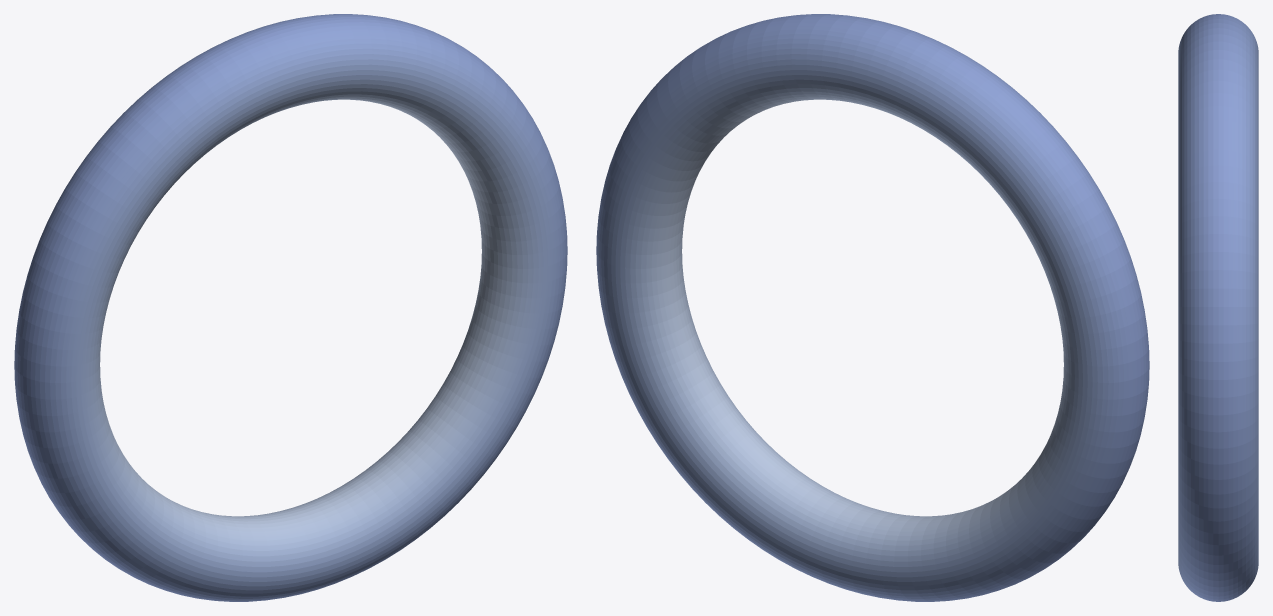
The picture shows the model from 3 angles, left to right: view 1: azimuth 30°, elevation 25°; view 2: azimuth 150°, elevation 25°; view 3: azimuth 270°, elevation 25°; orthographic projection. The views are drawn at different scales.
Parts seen in each view (by area): view 1: world; view 2: world; view 3: world.
Boxes of the visible parts, <box> form: world: <box>14,14,567,601</box>; world: <box>596,14,1149,601</box>; world: <box>1178,14,1258,601</box>.
Size of the model in its own units: 26.27 by 26.27 by 3.59.
